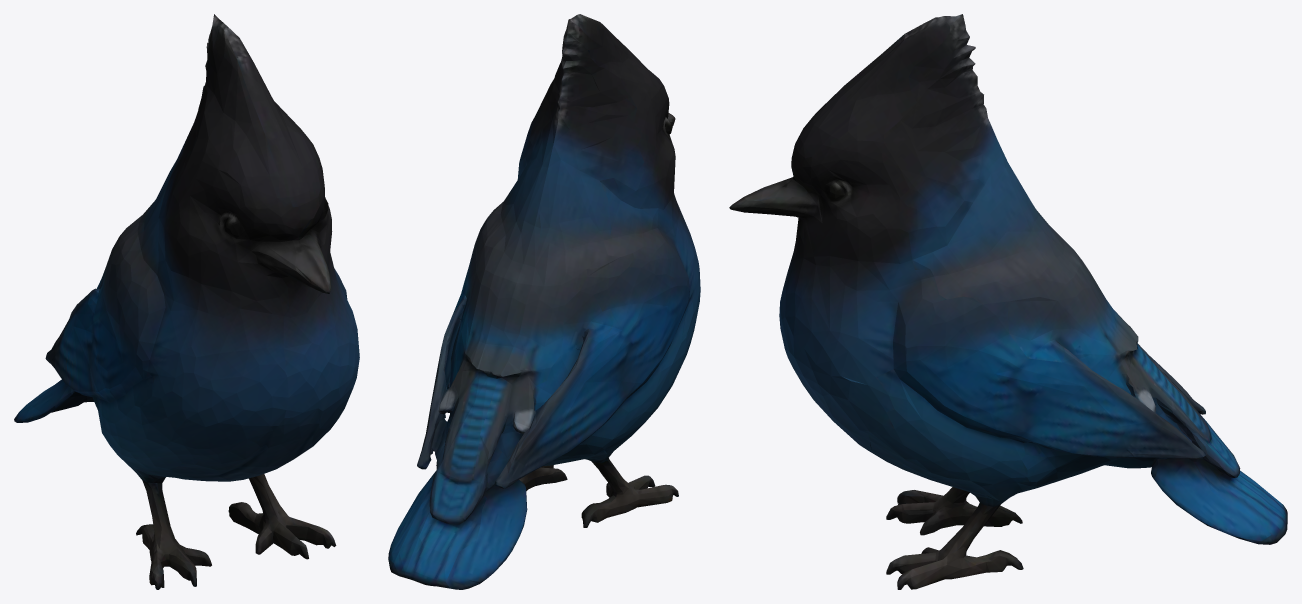
The model's file is stellers_jay.glb.
3 views of the same model, side by side, from view 1: azimuth 30°, elevation 25°; view 2: azimuth 150°, elevation 25°; view 3: azimuth 270°, elevation 25° (orthographic). The views are drawn at different scales.
Parts seen in each view (by area): view 1: geometry_0; view 2: geometry_0; view 3: geometry_0.
Part boxes in pixels (left/top/right/bottom): geometry_0: left=14, top=14, right=359, bottom=589; geometry_0: left=388, top=14, right=700, bottom=589; geometry_0: left=729, top=14, right=1287, bottom=589.
Bounding box in the file's own units: 0.4154 × 0.9973 × 0.9462.
Materials: 1 (1 with a texture image).
